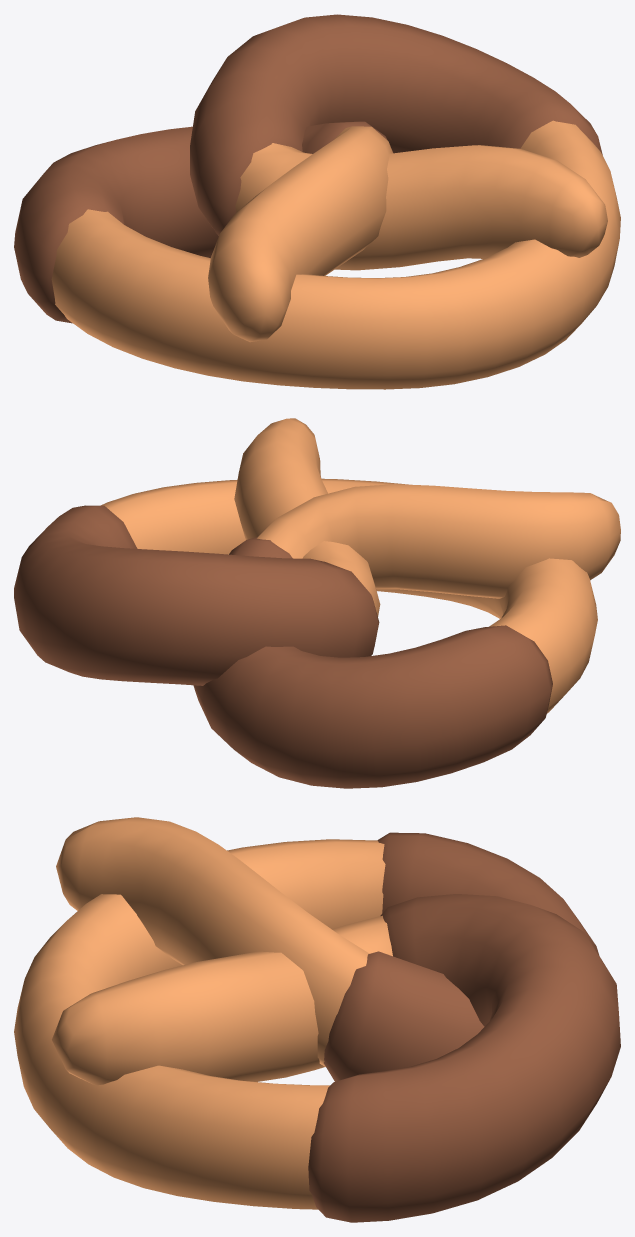
The model's file is Pretzel_03.fbx.
3 renders of one model, top to bottom at view 1: azimuth 30°, elevation 25°; view 2: azimuth 150°, elevation 25°; view 3: azimuth 270°, elevation 25°, orthographic. The views are drawn at different scales.
Visible parts, largest first — view 1: Pretzel_03_LOD0; view 2: Pretzel_03_LOD0; view 3: Pretzel_03_LOD0.
Boxes of the visible parts, x1,y1,x2,y2 form: Pretzel_03_LOD0: (14,14,620,389); Pretzel_03_LOD0: (14,418,620,788); Pretzel_03_LOD0: (14,817,620,1222).
Size of what is drawn, in the model's own units: 577 by 205 by 498.
